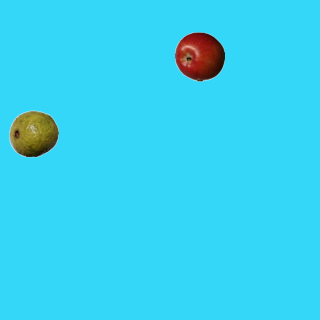Apple Braeburn: (174, 31, 224, 81)
Guava: (8, 108, 58, 158)
